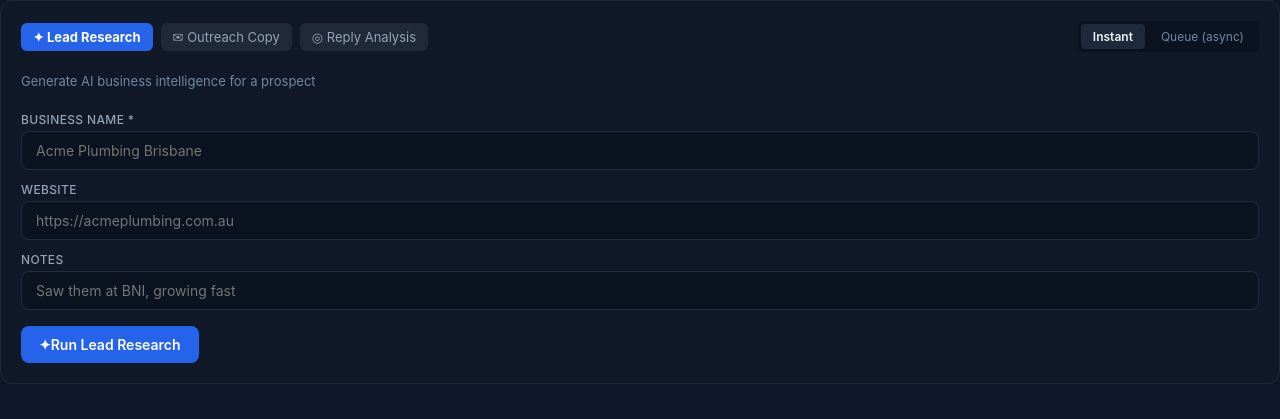
AiTools › switching tabs updates the description
The image size is (1280, 419).
Click the button "✉ Outreach Copy".
click(226, 36)  # box x1=161 y1=22 x2=292 y2=50
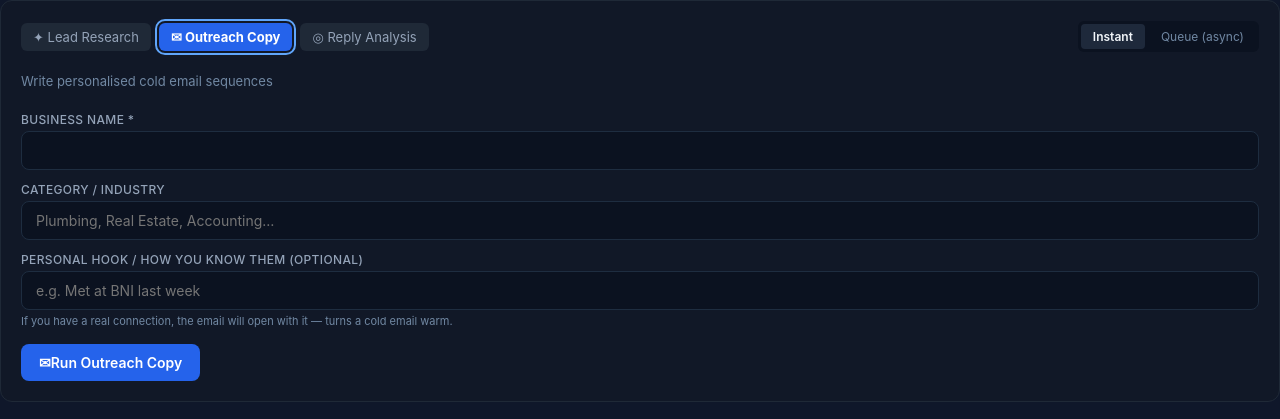
Check: the text "Write personalised cold email sequences" is shown, box x1=21 y1=73 x2=273 y2=89
